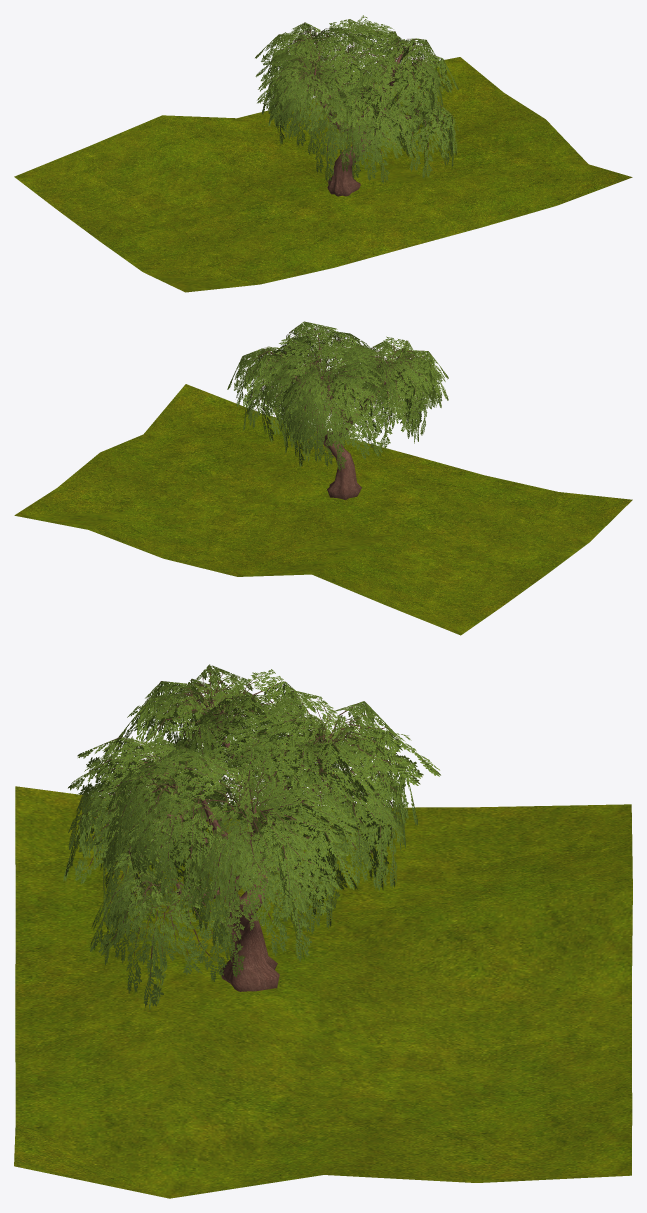
Rendered from tree.obj.
3 views of the same model, one above another, from view 1: azimuth 30°, elevation 25°; view 2: azimuth 150°, elevation 25°; view 3: azimuth 270°, elevation 25° (orthographic). The views are drawn at different scales.
Parts seen in each view (by area): view 1: grass_ground, leaf, tree; view 2: grass_ground, leaf, tree; view 3: grass_ground, leaf, tree.
Boxes of the visible parts, box(x1,y1,x2,y2) form: grass_ground: box(14, 57, 632, 292); leaf: box(255, 15, 458, 183); tree: box(313, 44, 421, 196); grass_ground: box(14, 384, 632, 635); leaf: box(227, 321, 448, 470); tree: box(278, 338, 391, 499); grass_ground: box(14, 786, 632, 1198); leaf: box(63, 664, 440, 1009); tree: box(158, 708, 323, 991).
Bounding box in the file's own units: 9.66 × 3.37 × 6.45.
